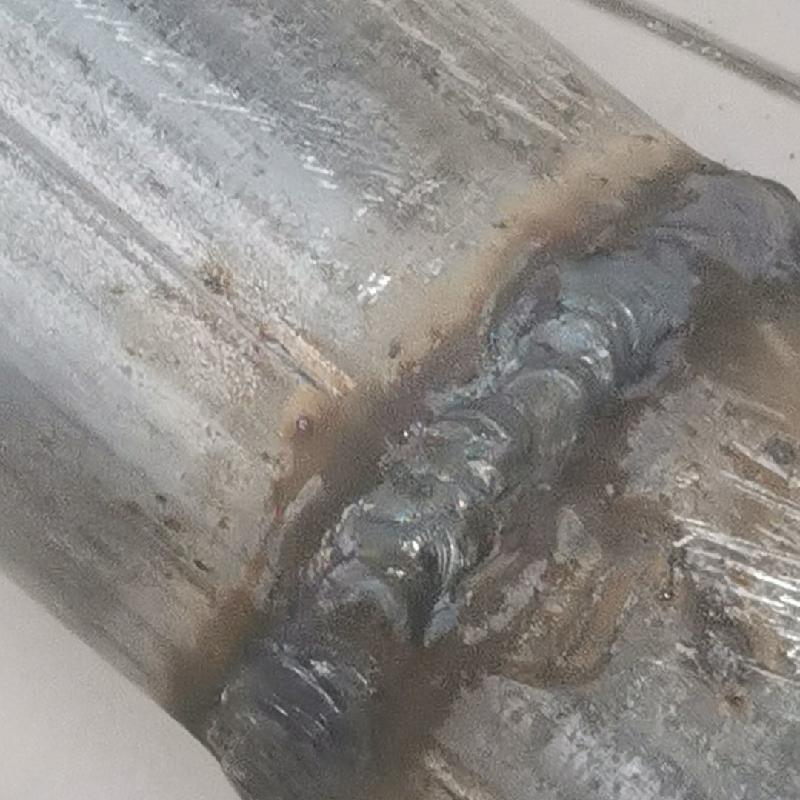good: (168, 115, 799, 788)
